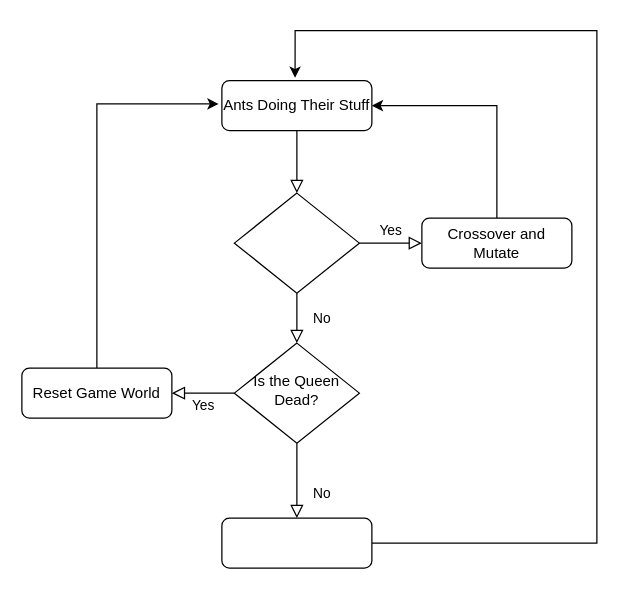
This 629x590 diagram has some shape labels left out. Here are the shapes that lost their labels. From the top down, the box of each, then its label:
(233, 192, 359, 293): Time For Evolution?
(221, 517, 372, 568): Kick back and have a pint
